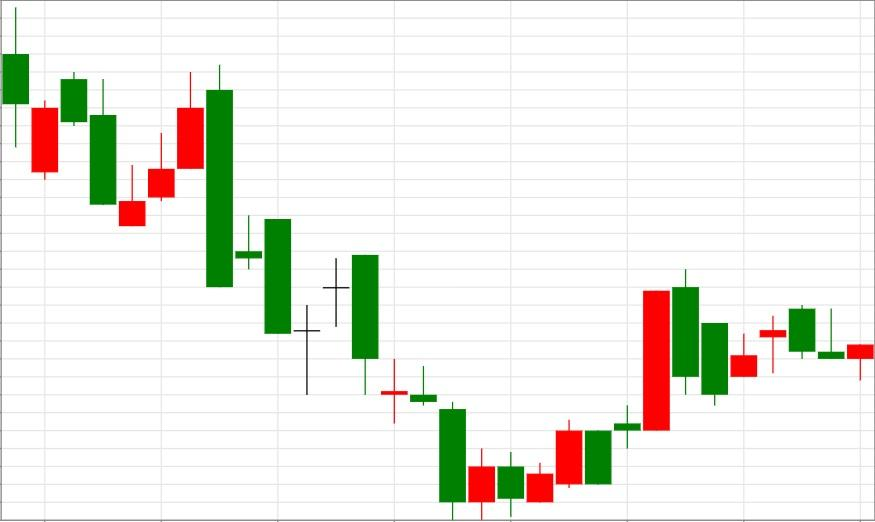bearish_engulfing_fall: (117, 65, 234, 287)
three_white_soldiers_rise: (60, 69, 205, 227)
